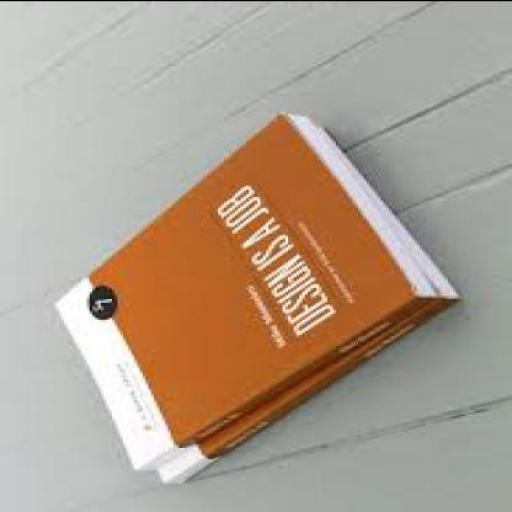paper: (47, 114, 434, 471), (154, 127, 453, 486)
